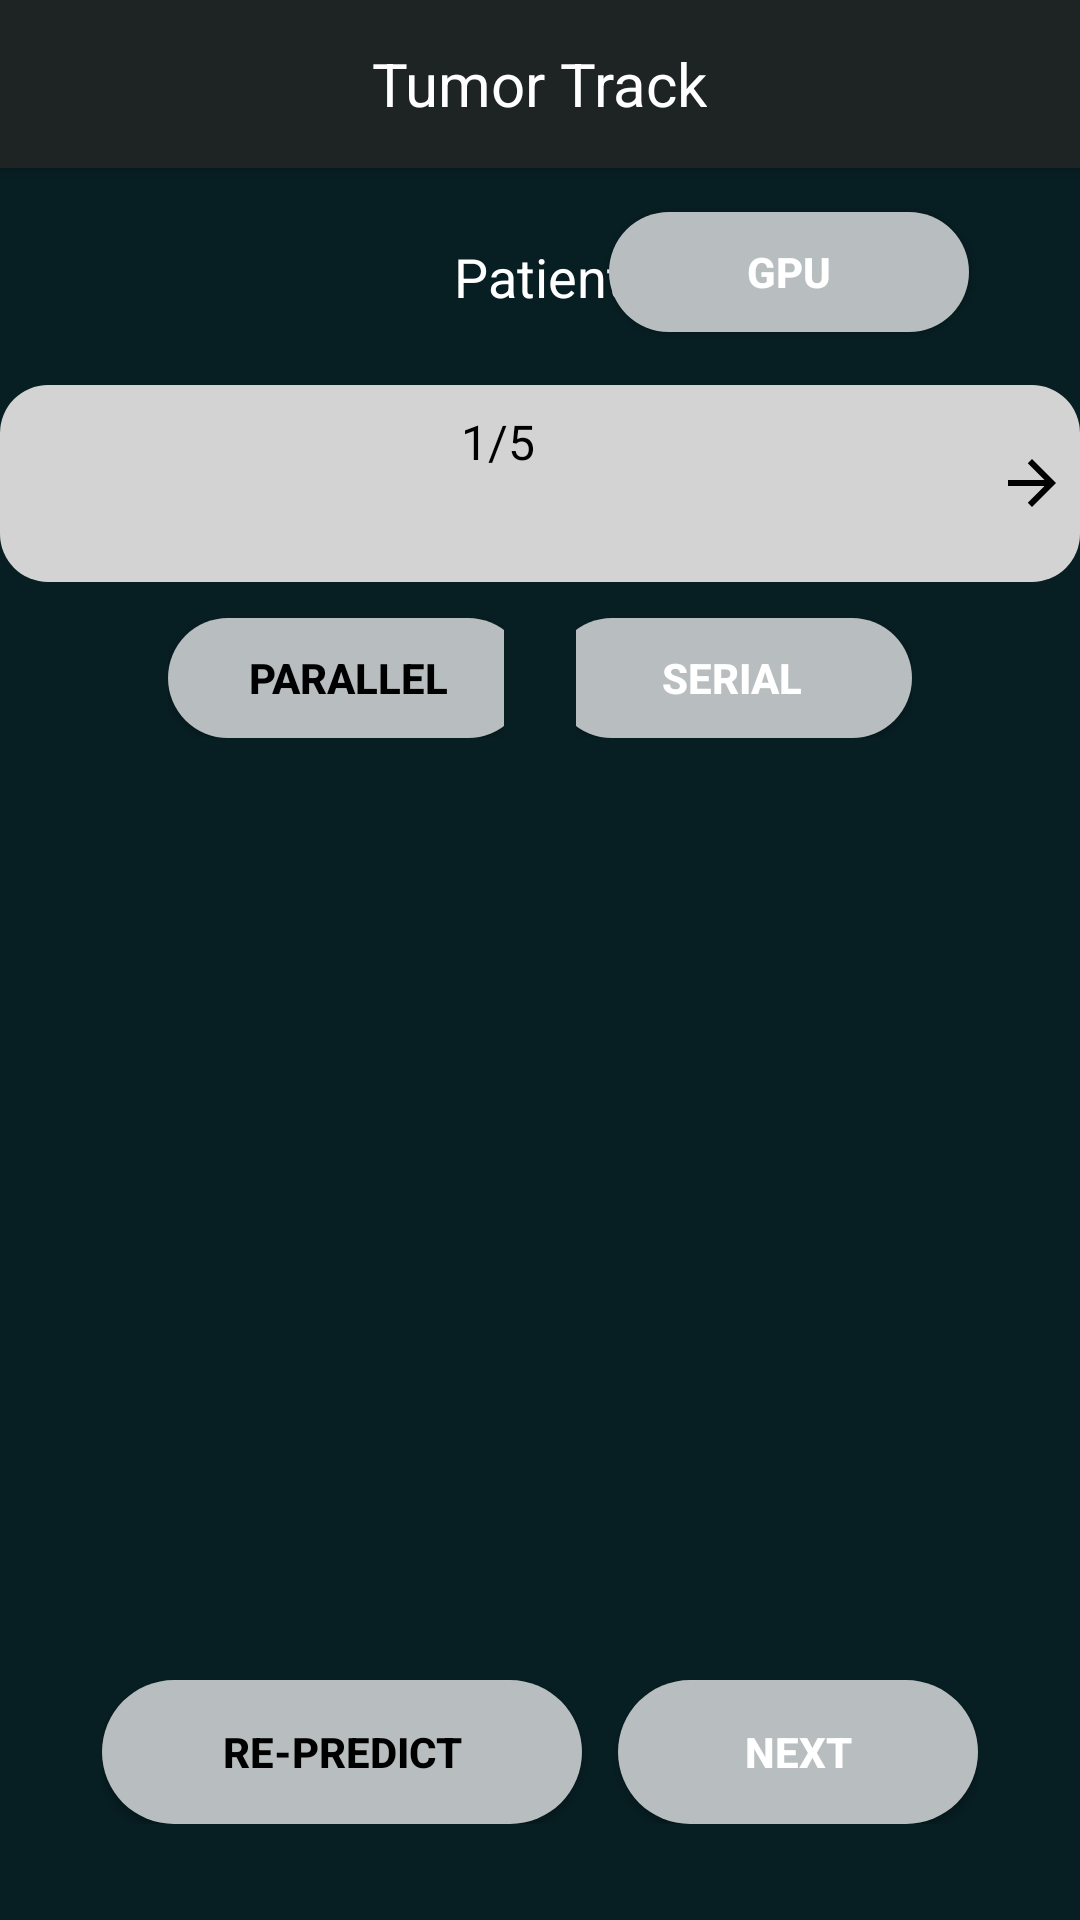

Point at icon controls on the screen. Image size 1080px×1920px, points as (x=x, y=y).
right arrow: (x=1032, y=483)
